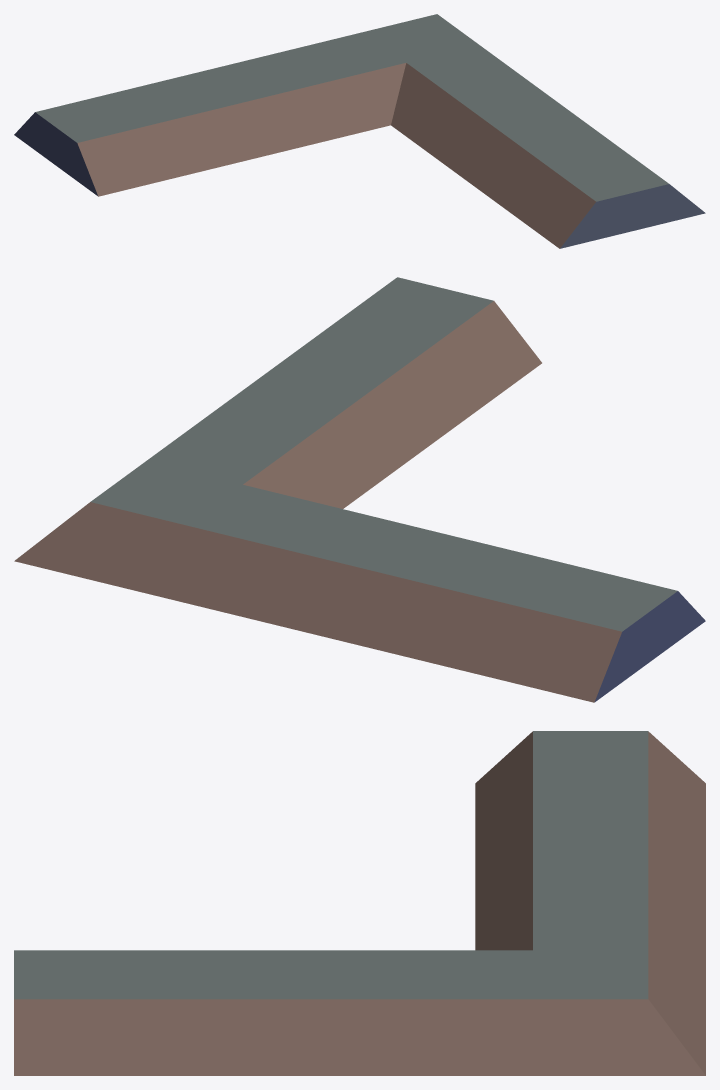
File: Floortrim_bend.fbx
The picture shows the model from 3 angles, top to bottom: view 1: azimuth 30°, elevation 25°; view 2: azimuth 150°, elevation 25°; view 3: azimuth 270°, elevation 25°; orthographic projection. The views are drawn at different scales.
Parts seen in each view (by area): view 1: Mesh; view 2: Mesh; view 3: Mesh.
Boxes of the visible parts, x1,y1,x2,y2 form: Mesh: (14, 14, 705, 248); Mesh: (14, 277, 705, 702); Mesh: (14, 731, 705, 1075).
Size of the model in its own units: 60 by 5 by 60.
